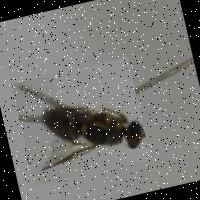Oriental-fruit-fly: (10, 56, 150, 185)
